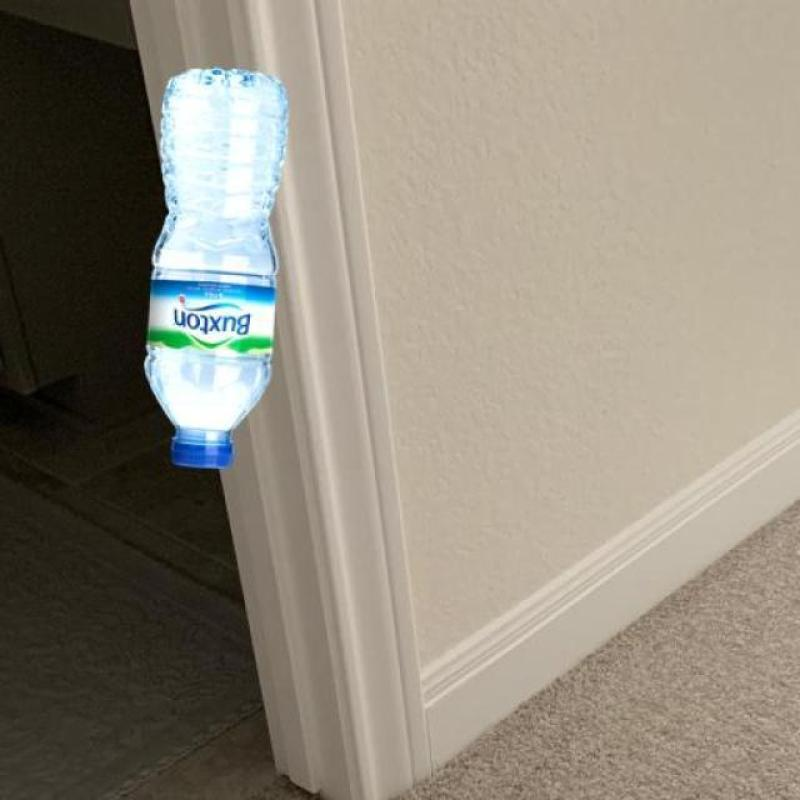botella: (147, 67, 292, 464)
